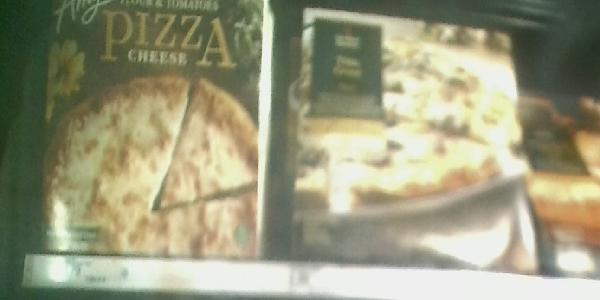pizza1: (295, 1, 541, 275), (39, 1, 260, 257)
